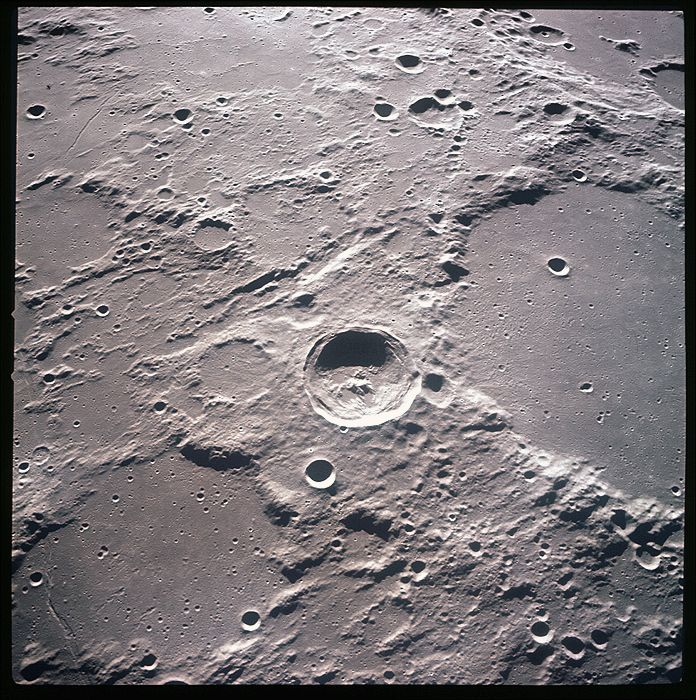crater: (289, 312, 437, 441), (507, 223, 632, 309)
